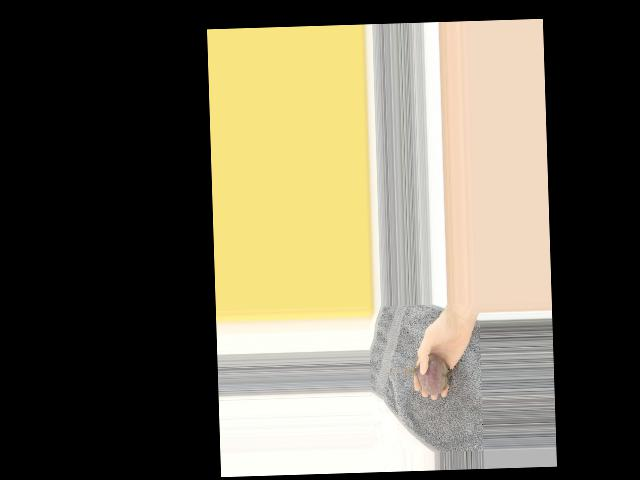beet: (385, 354, 453, 396)
